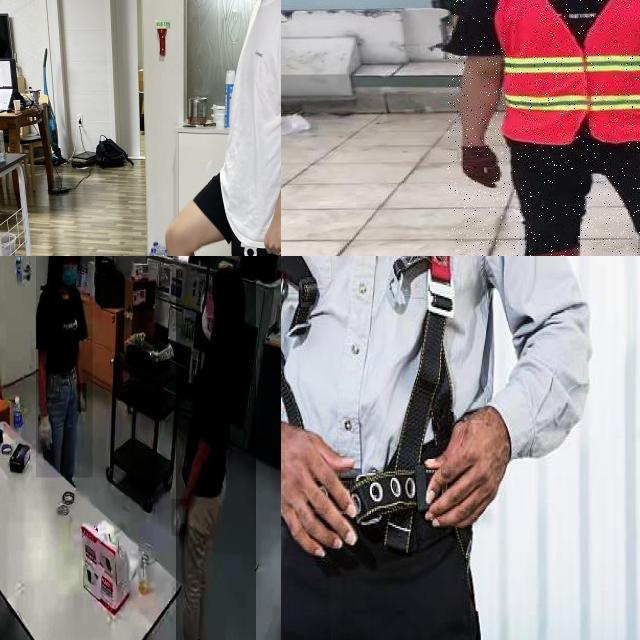Harness: (281, 256, 471, 542)
face_mask: (56, 256, 81, 287), (200, 294, 216, 342)
hand_glove: (172, 499, 190, 537), (38, 414, 54, 454), (77, 383, 87, 413)
head_nohelmet: (210, 264, 244, 285)
person: (448, 0, 640, 256), (175, 268, 256, 640), (36, 256, 93, 478)
vest: (493, 0, 640, 144)
